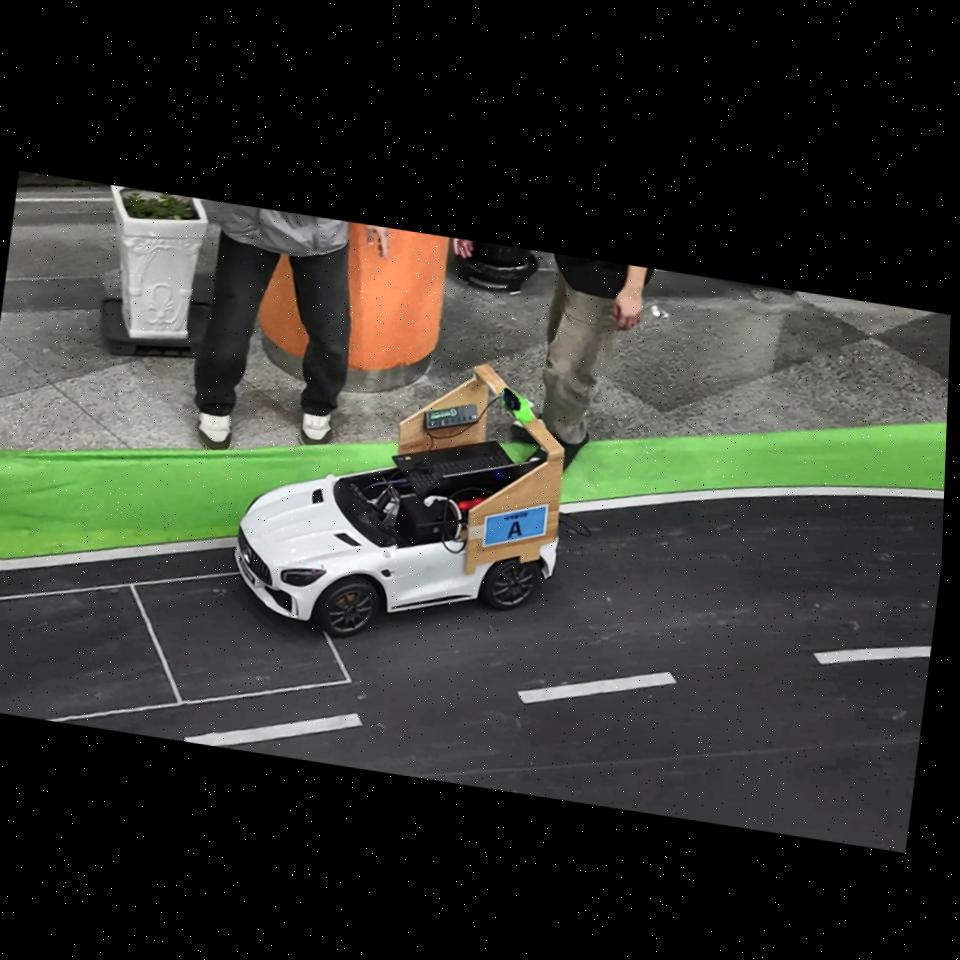broken_line: (184, 713, 362, 747), (517, 671, 676, 704), (814, 646, 931, 664)
